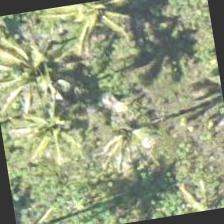Kelapa_Sawit: (0, 88, 103, 192), (0, 24, 84, 127), (17, 0, 115, 66)
